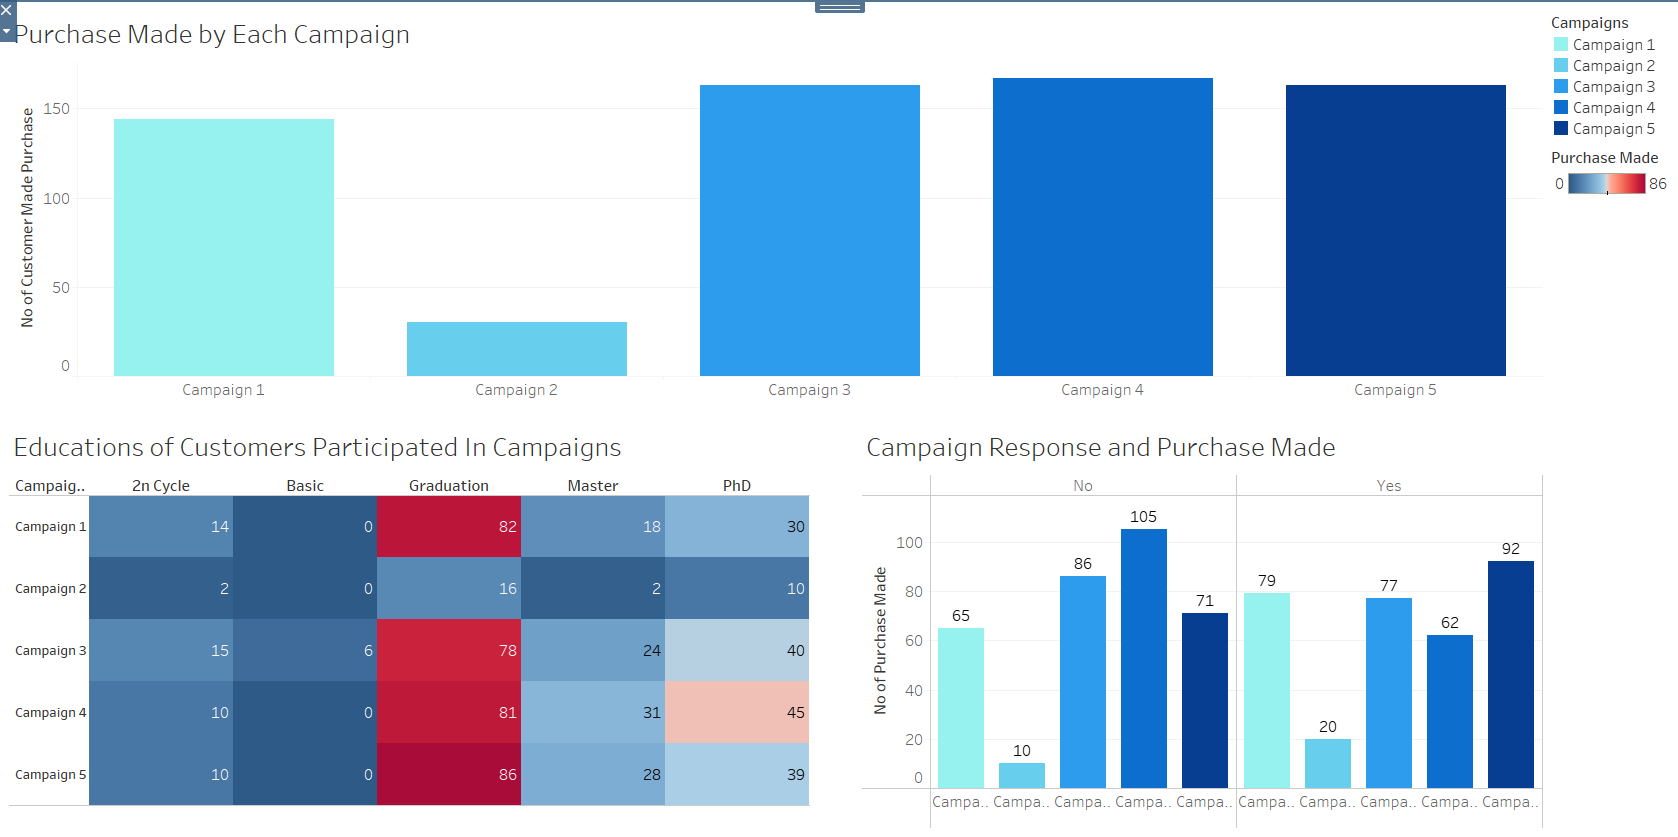

The page's visual inventory and layout, read from the dashboard file:
{"tool":"tableau","page":{"name":"Campaign Dashboard","canvas":[1000,1000],"units":"permille","ordinal":0},"visuals":[{"type":"worksheet","title":"Purchase Made by Each Campaign","mark":"Automatic","rows":["Pivot Field Values"],"cols":["Pivot Field Names"],"box":[5,9.5,910.1,490.5]},{"type":"legend","title":"Purchase Made by Each Campaign","param":"[federated.003a4g117bcdep19m6nk21j4v3hl].[none:Pivot Field Names:nk]","box":[915.1,9.5,80,160.5]},{"type":"legend","title":"Educations of Customers Participated In Campaigns","param":"[federated.003a4g117bcdep19m6nk21j4v3hl].[sum:Pivot Field Values:qk]","box":[915.1,170,80,86.8]},{"type":"worksheet","title":"Educations of Customers Participated In Campaigns","mark":"Square","rows":["Pivot Field Names"],"cols":["Education"],"box":[5,500,503.4,490.5]},{"type":"worksheet","title":"Campaign Response and Purchase Made","mark":"Automatic","rows":["Pivot Field Values"],"cols":["Response","Pivot Field Names"],"box":[508.4,500,406.7,490.5]}]}

Visuals, with their boxes on the dashboard's canvas, which has no fixed pixel size, in thousandths of its width and height (x1, y1, x2, y2). These are canvas units, not pixel positions in the 1678x837 screenshot, which may show the page scaled, cropped or inside an application window:
"Purchase Made by Each Campaign" worksheet: [left=5, top=10, right=915, bottom=500]
"Purchase Made by Each Campaign" legend: [left=915, top=10, right=995, bottom=170]
"Educations of Customers Participated In Campaigns" legend: [left=915, top=170, right=995, bottom=257]
"Educations of Customers Participated In Campaigns" worksheet (Square marks): [left=5, top=500, right=508, bottom=990]
"Campaign Response and Purchase Made" worksheet: [left=508, top=500, right=915, bottom=990]
